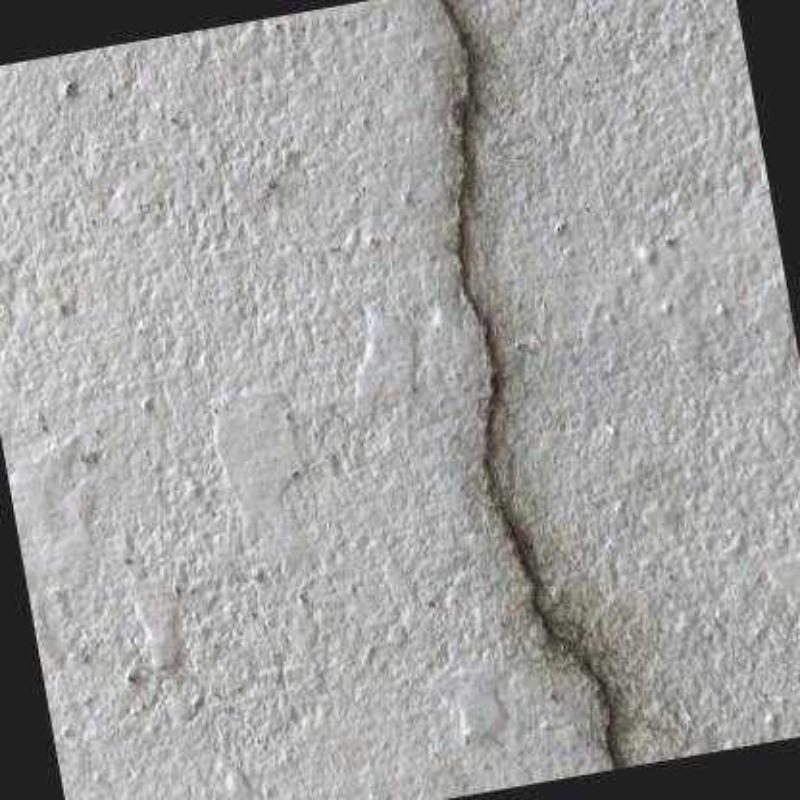pothole: (437, 0, 620, 769)
